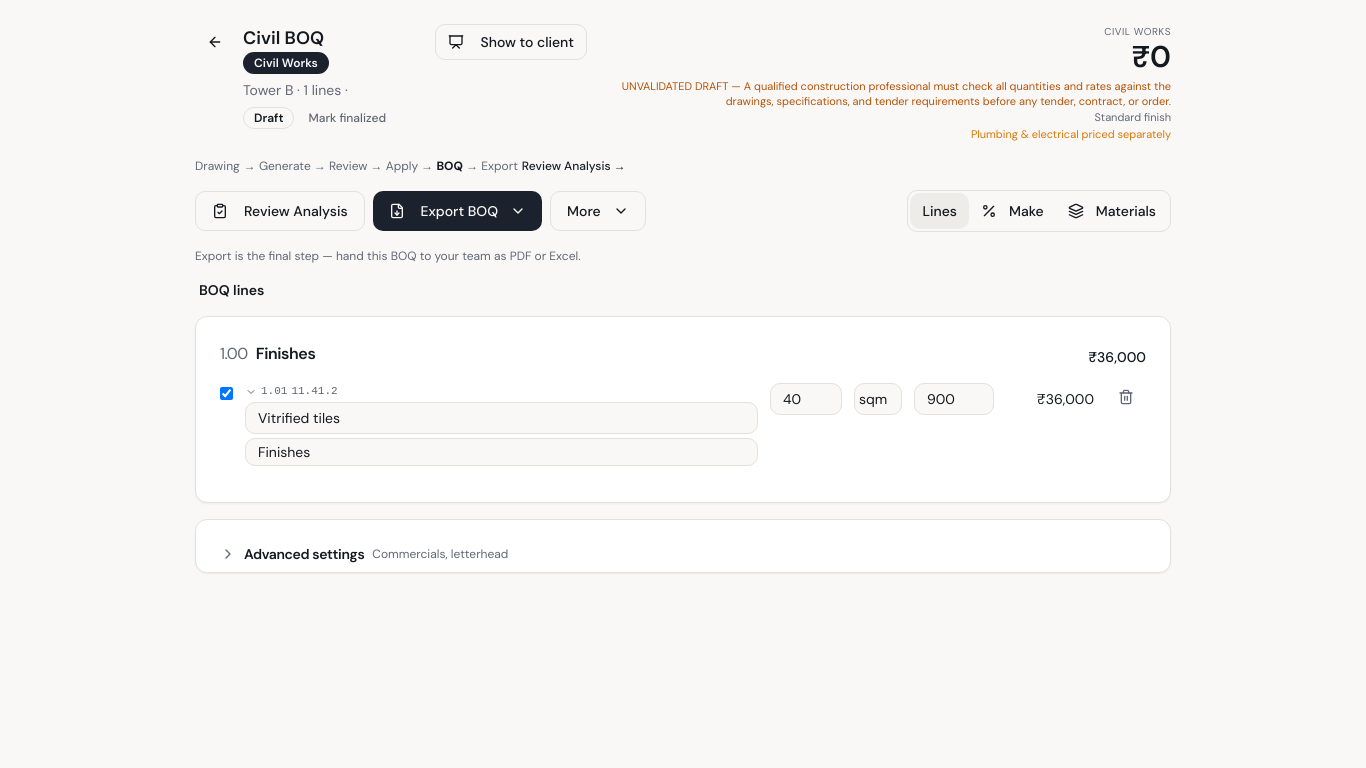
Test: OpsBoqBuilder — rate field follows the saved rate › rate edit → Undo: the field shows the restored rate, not the undone one
This screenshot has width=1366, height=768.
Step 1. Replace the text in the number field with placeholder "rate" with "1100" → x=954, y=399, box [914,383,994,415]
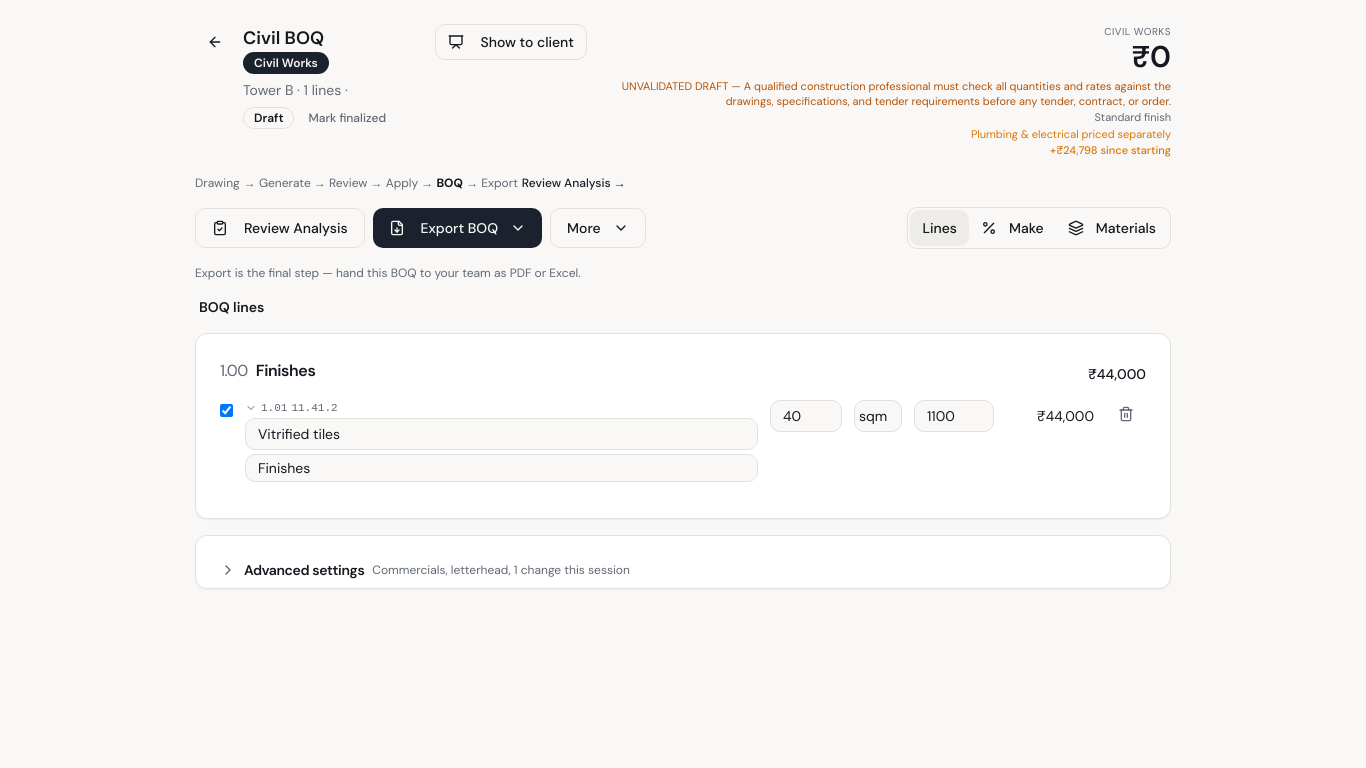
Step 2. Click the text "Advanced settings" → x=304, y=570, box [244,560,364,580]
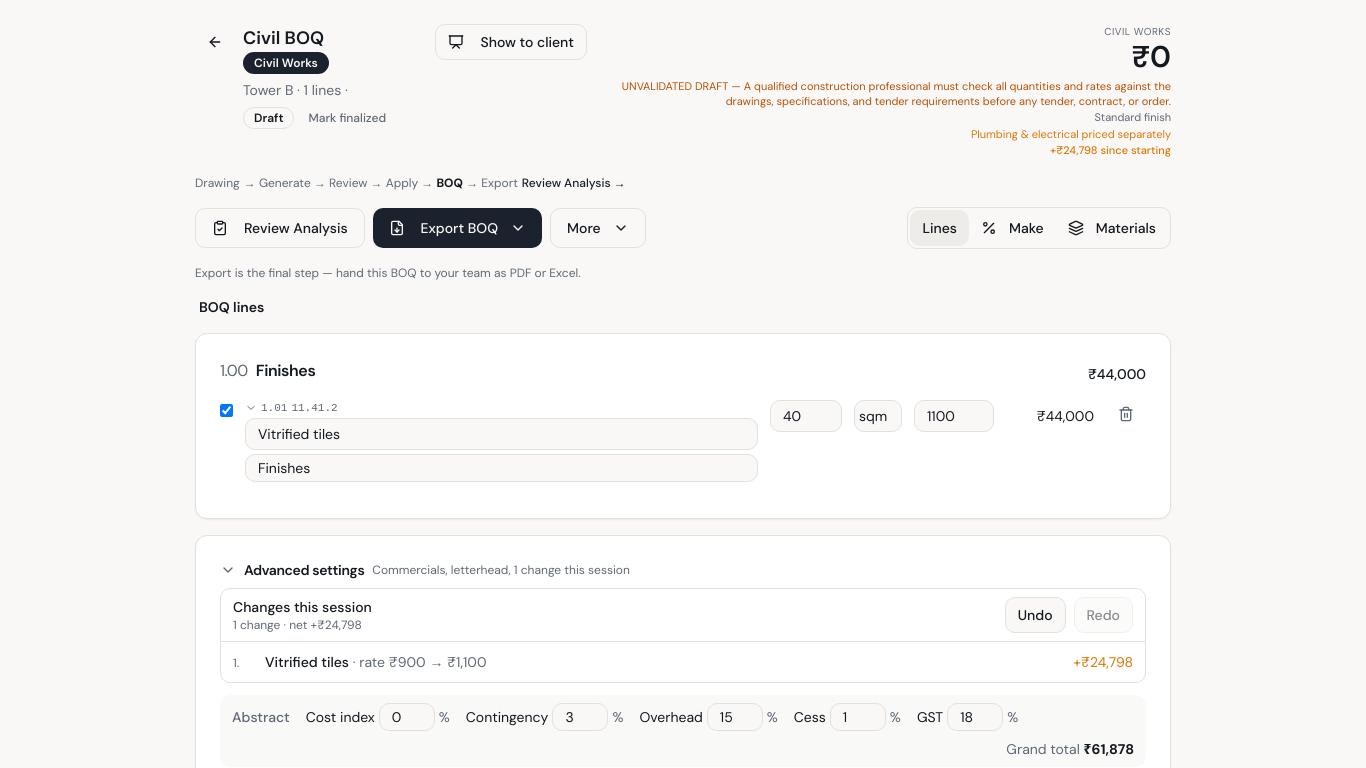
Step 3. Click the button "Undo" → x=1035, y=615, box [1005,597,1066,633]
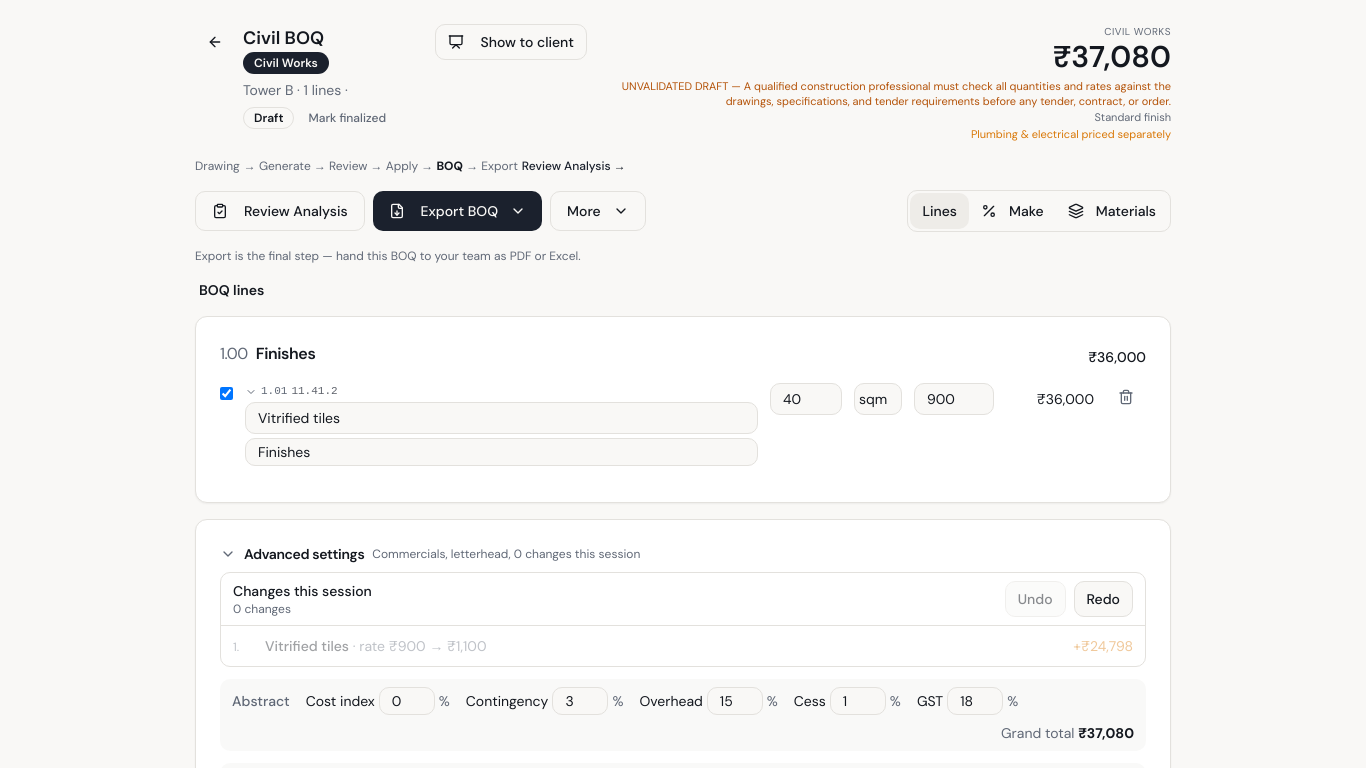
Check: the number field with placeholder "rate" holds "900", box [914,383,994,415]
